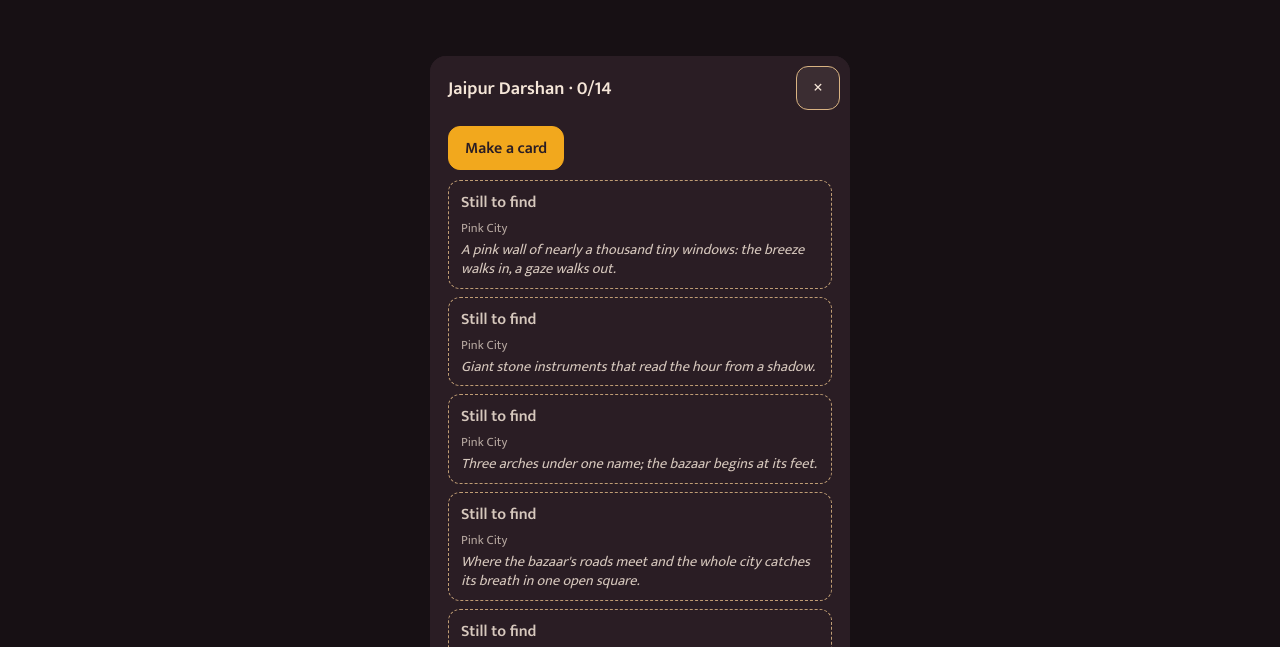
a card that cannot be made says so, and can be tried again
The width and height of the screenshot is (1280, 647).
Step 1. Click the button with class "darshan-card-make" → click(506, 148), box x1=448 y1=126 x2=564 y2=170
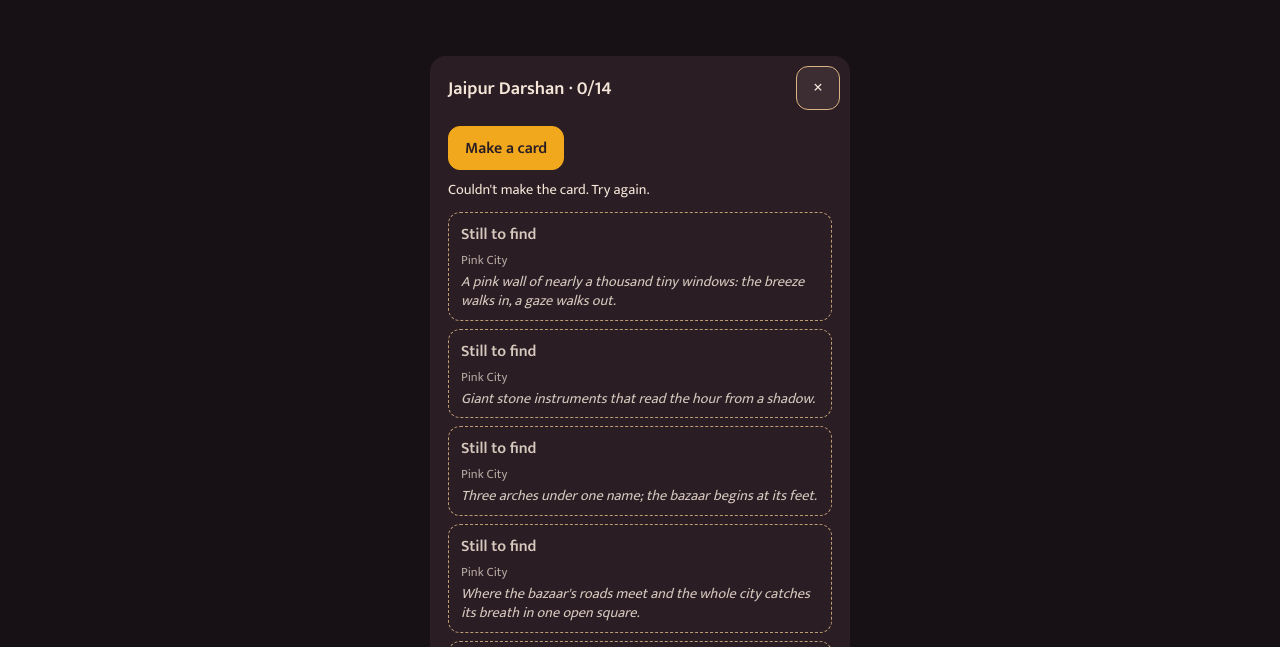
expect the message with class "darshan-card-note" reads "Couldn't make the card. Try again.": met, box x1=448 y1=178 x2=650 y2=202
